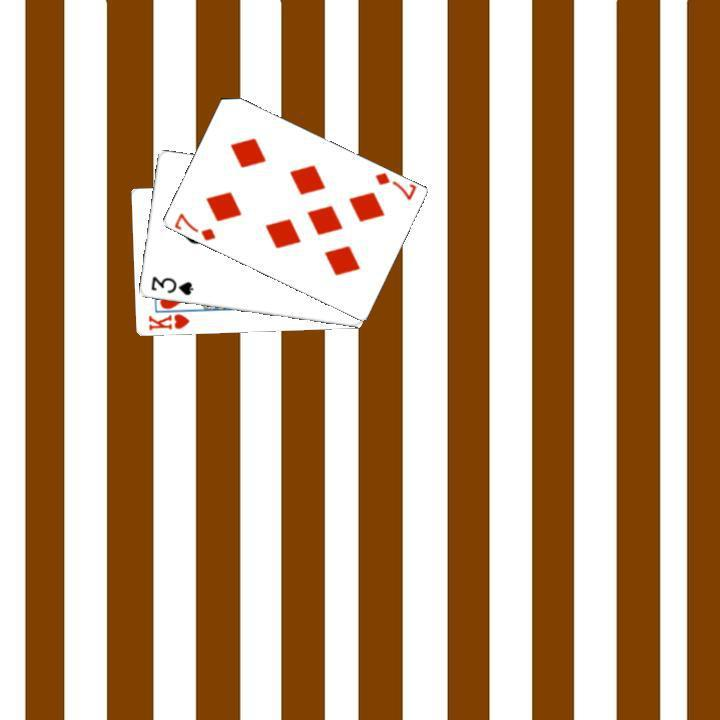3: (146, 272, 195, 298)
7: (170, 209, 217, 243), (370, 169, 417, 202)
K: (144, 310, 191, 332)
